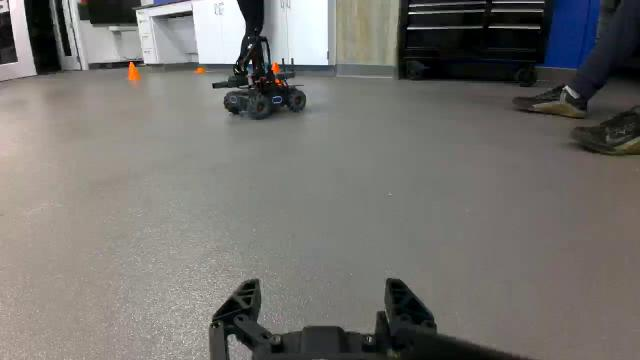robot: (211, 31, 306, 121)
